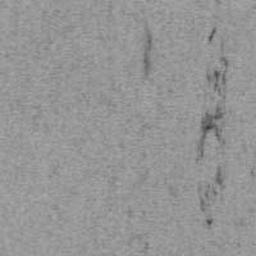Inclusion: (195, 105, 227, 159), (204, 41, 229, 102), (195, 165, 227, 212), (142, 20, 152, 81), (206, 27, 215, 42)
